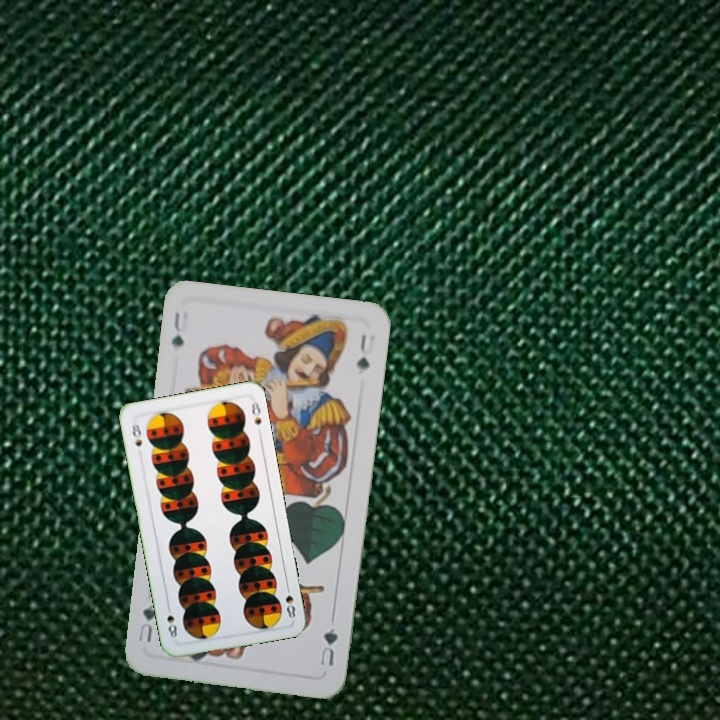GU: (316, 624, 340, 669), (168, 307, 191, 350)
S8: (281, 580, 298, 621), (128, 420, 145, 450)
